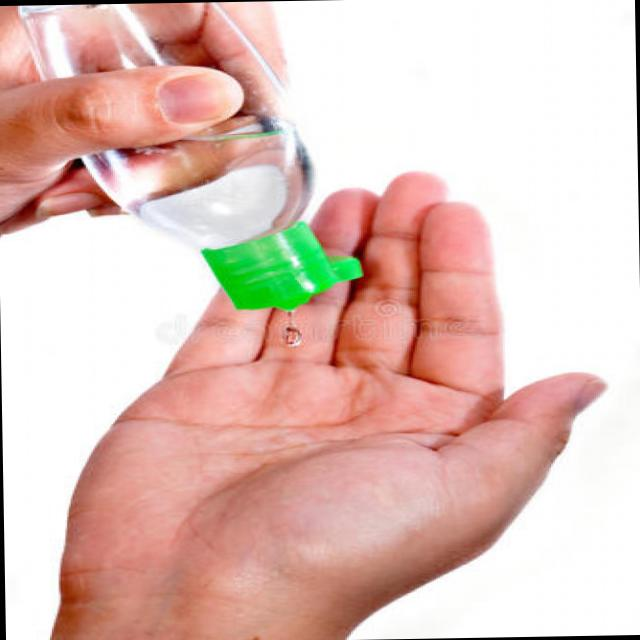sanitizer: (11, 0, 363, 321)
